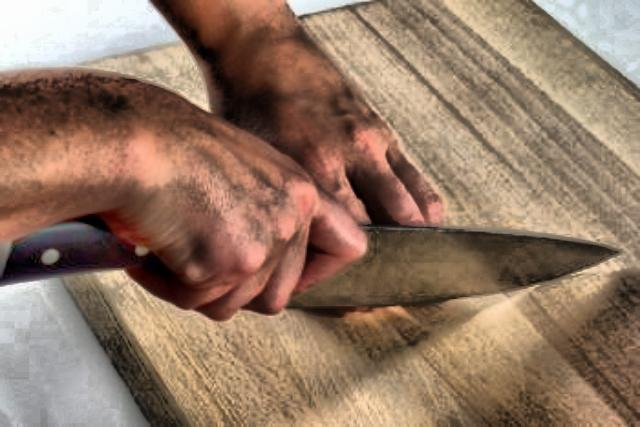knife: (179, 198, 621, 320)
